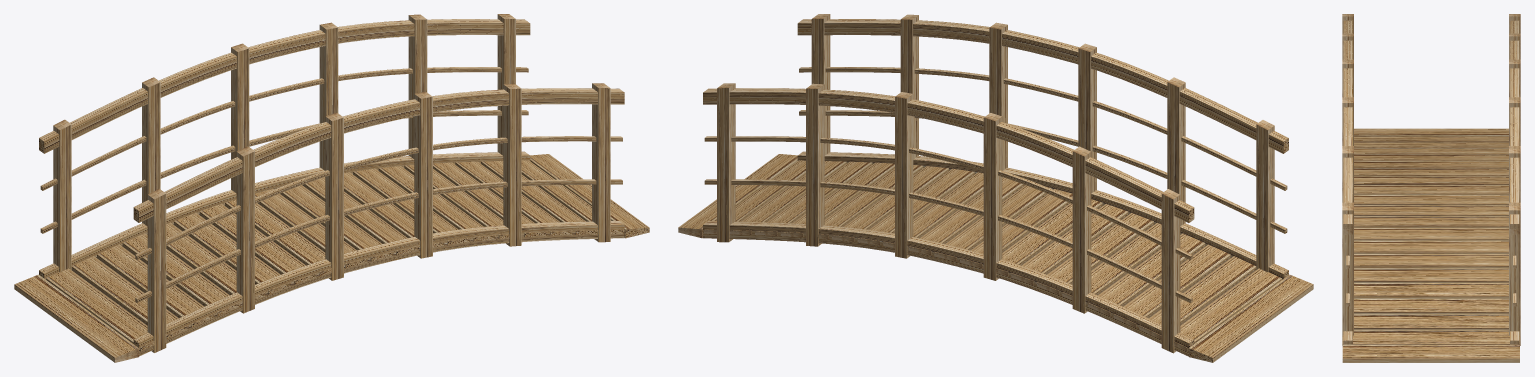
The model's file is Bridge.gltf.
The picture shows the model from 3 angles, left to right: view 1: azimuth 30°, elevation 25°; view 2: azimuth 150°, elevation 25°; view 3: azimuth 270°, elevation 25°; orthographic projection. The views are drawn at different scales.
Parts seen in each view (by area): view 1: Ponte; view 2: Ponte; view 3: Ponte.
Part boxes in pixels (box(x1,y1,x2,y2)): Ponte: box(14, 14, 649, 362); Ponte: box(678, 14, 1313, 362); Ponte: box(1342, 14, 1520, 362).
Size of the model in its own units: 5.03 by 1.71 by 1.65.
1 material, 1 textured.
